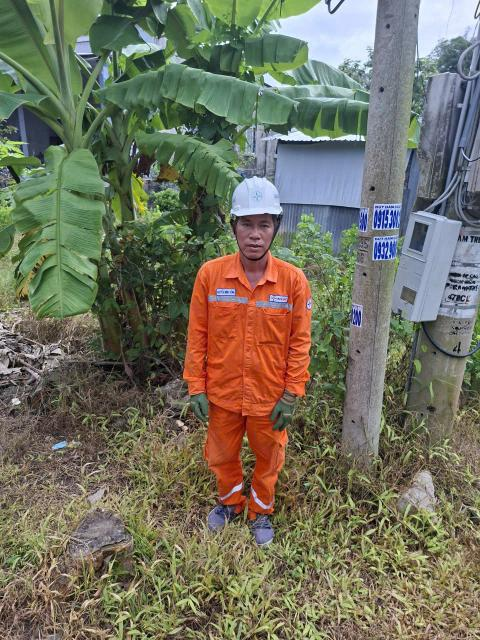gloves: (176, 392, 217, 430), (267, 392, 306, 431)
helmet: (223, 165, 292, 231)
shoes: (193, 484, 249, 533), (245, 507, 281, 550)
